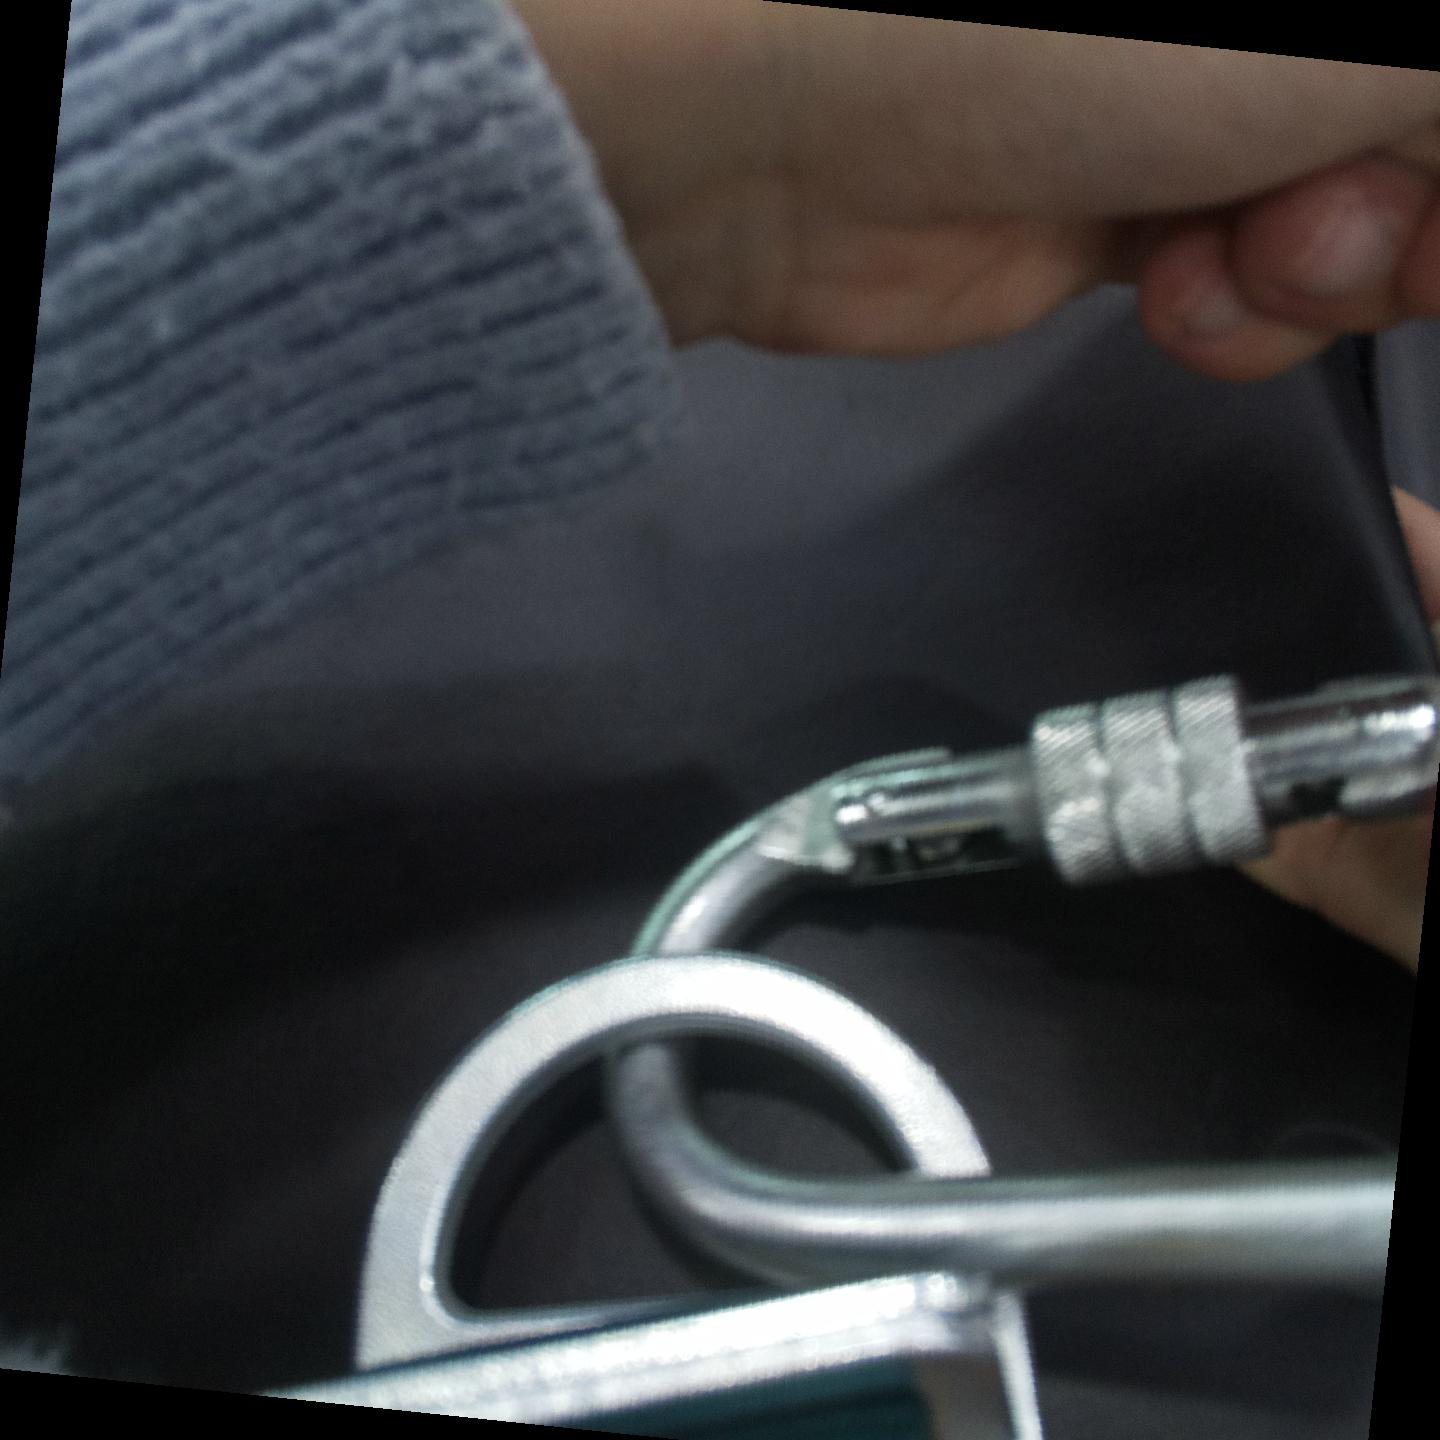SUCCESS: (347, 651, 1182, 1364)
